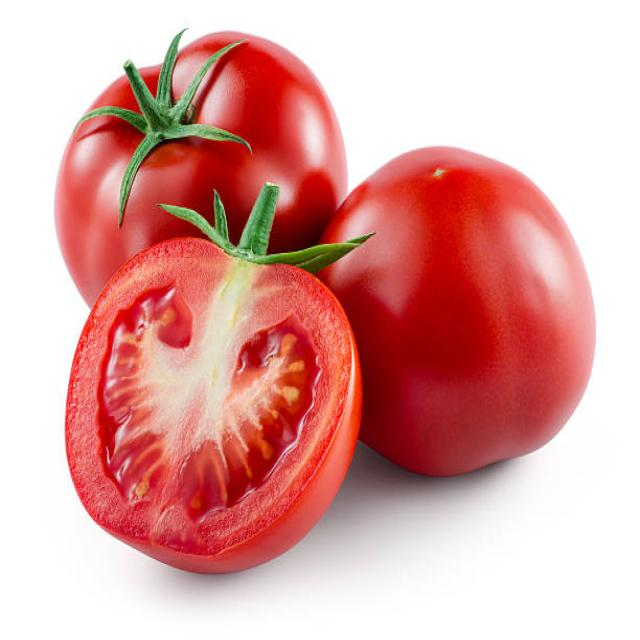Tomato: (57, 189, 368, 561)
